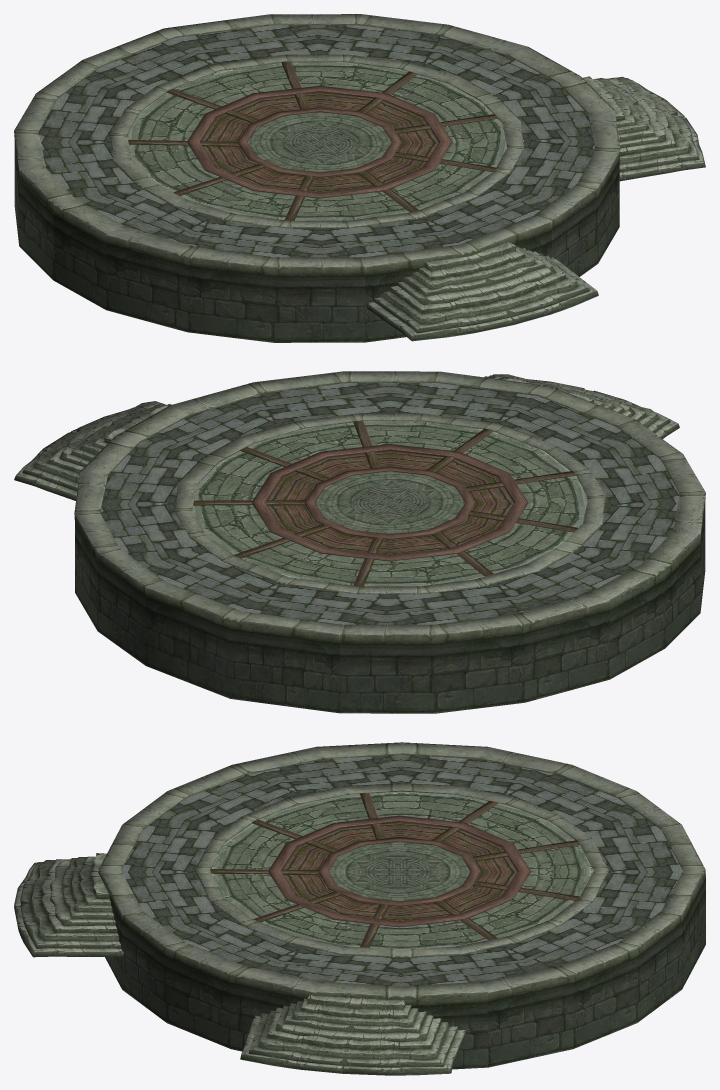
Rendered from Maincity14_Ground_02.FBX.
3 views of the same model, one above another, from view 1: azimuth 30°, elevation 25°; view 2: azimuth 150°, elevation 25°; view 3: azimuth 270°, elevation 25° (orthographic). The views are drawn at different scales.
Visible parts, largest first — view 1: Maincity14_Ground_02_01, Maincity14_Ground_02_02; view 2: Maincity14_Ground_02_01, Maincity14_Ground_02_02; view 3: Maincity14_Ground_02_01, Maincity14_Ground_02_02.
Boxes of the visible parts, x1=… form: Maincity14_Ground_02_01: x1=14, y1=14, x2=705, y2=342; Maincity14_Ground_02_02: x1=128, y1=61, x2=498, y2=220; Maincity14_Ground_02_01: x1=14, y1=371, x2=705, y2=713; Maincity14_Ground_02_02: x1=193, y1=420, x2=577, y2=586; Maincity14_Ground_02_01: x1=14, y1=742, x2=705, y2=1075; Maincity14_Ground_02_02: x1=210, y1=792, x2=580, y2=947.
Bounding box in the file's own units: 6341 × 765 × 6350.
